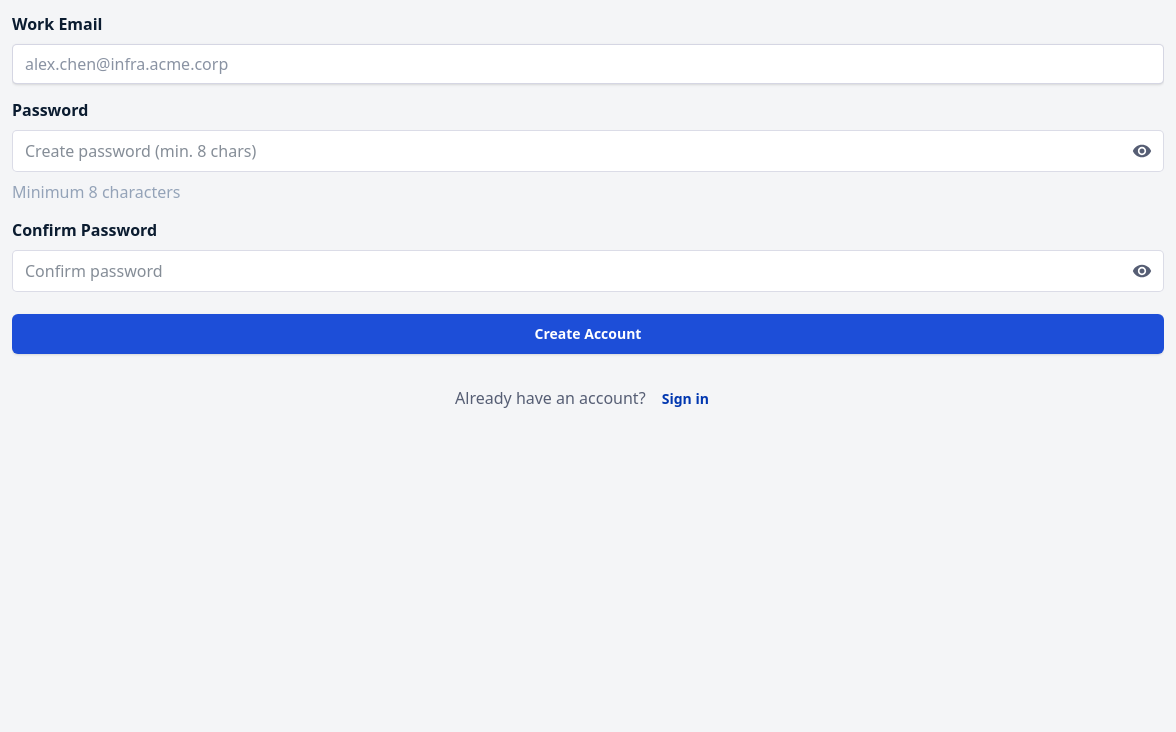
Test: auth error surfacing › shows the server message when registration fails with 400
In the field labelled "Work Email": (588,64) x1=12 y1=44 x2=1164 y2=84, type "taken@test.com"
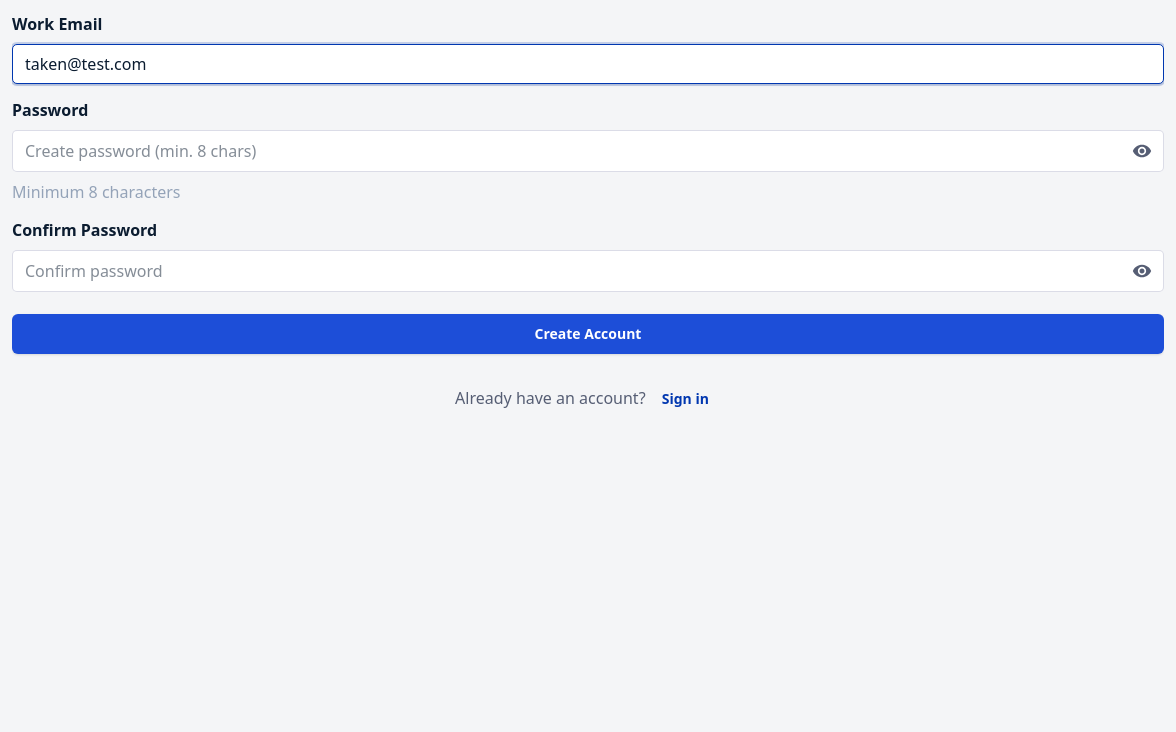
In the password field with placeholder "Create password (min. 8 chars)": (588,151) x1=13 y1=131 x2=1163 y2=171, type "password123"
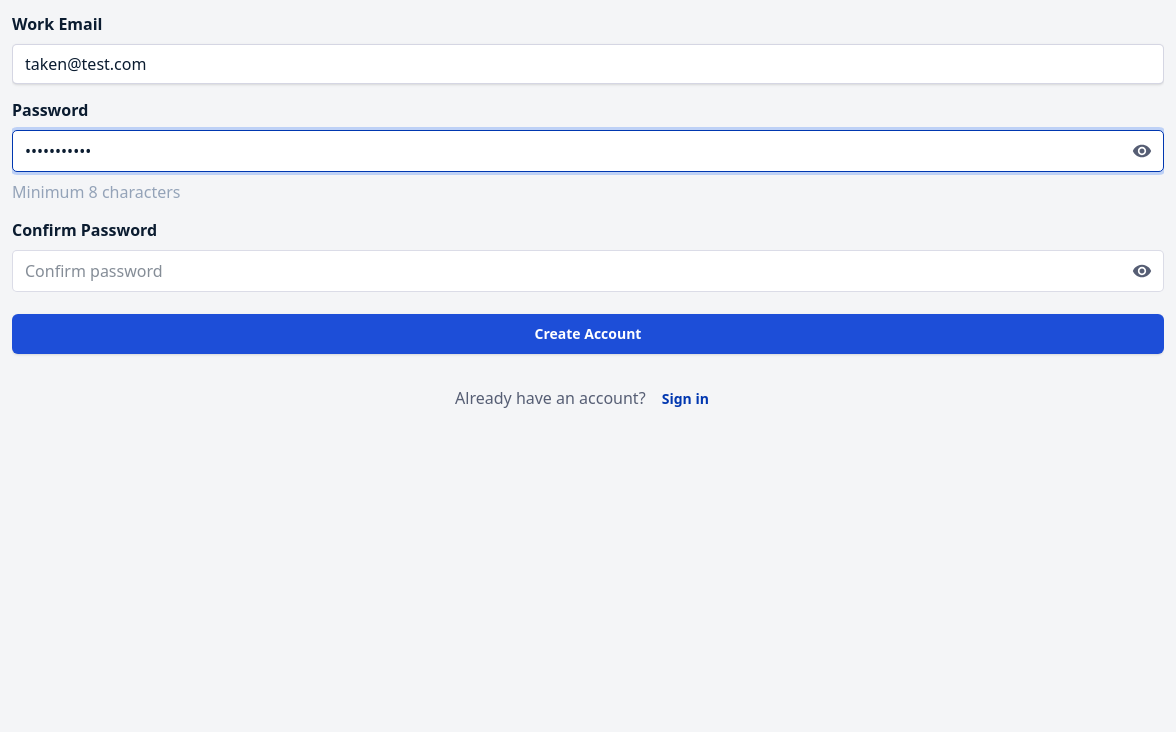
In the password field with placeholder "Confirm Password": (588,271) x1=13 y1=251 x2=1163 y2=291, type "password123"
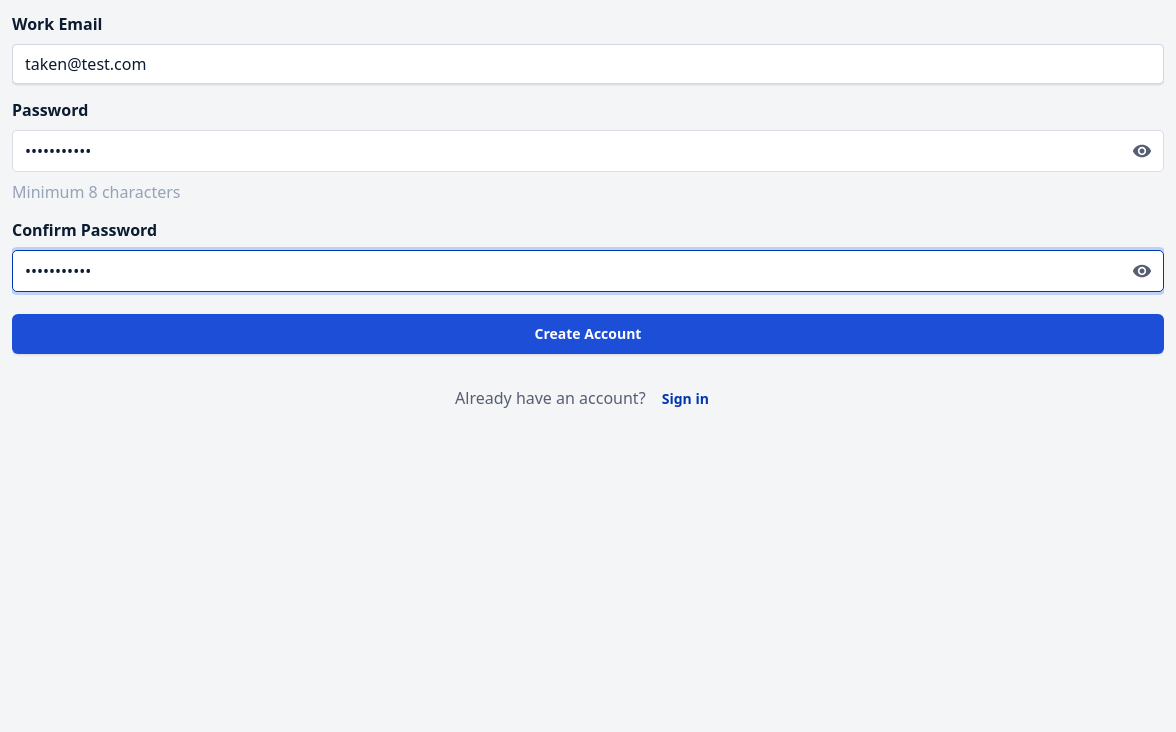
Click the button "Create Account": (588,334) x1=12 y1=314 x2=1164 y2=354
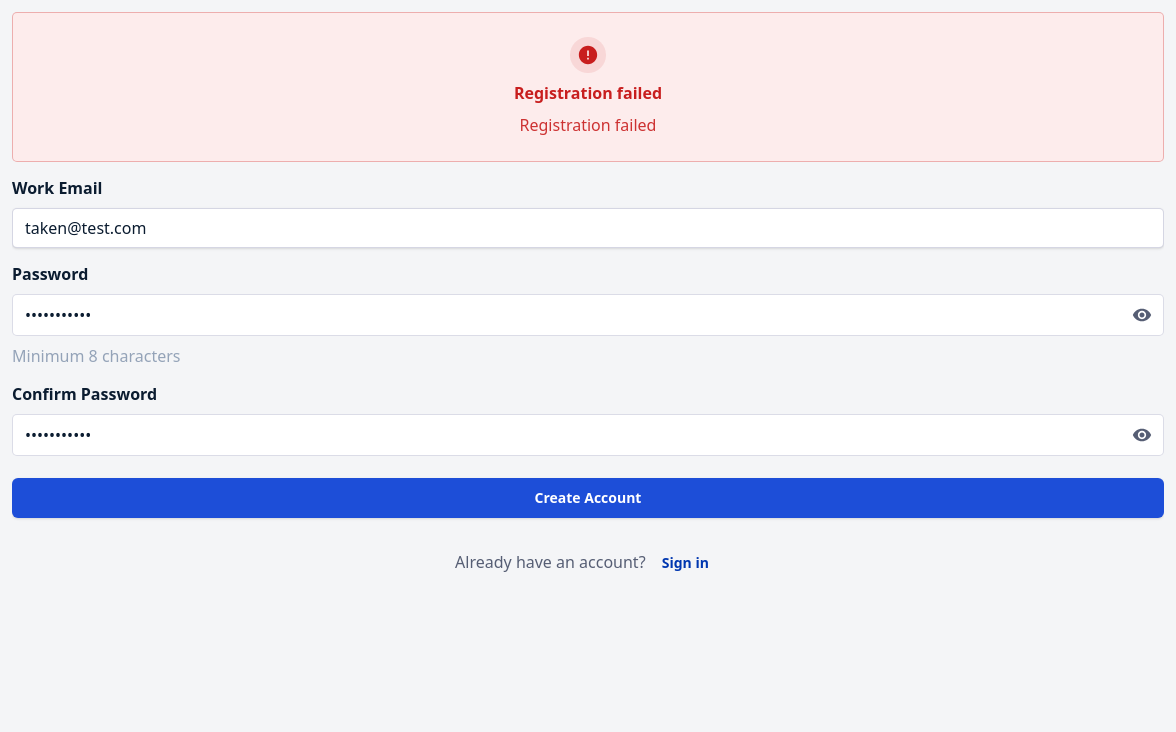
Expected: the message "Registration failed Registration failed" is shown, x1=12 y1=12 x2=1164 y2=162
